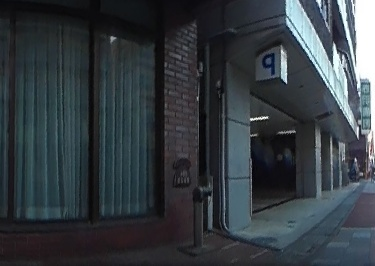person: (369, 158, 375, 178)
